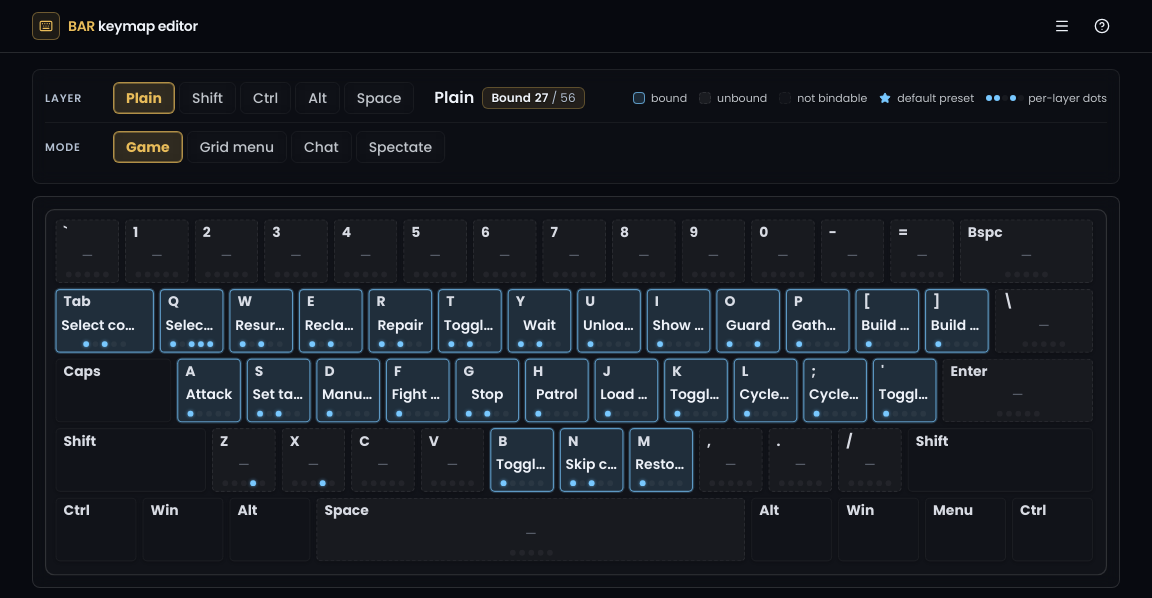
Test case: App smoke › clicks Q, then picks attack from the palette → binding visible
The image size is (1152, 598).
Click the button with aria-label "Q," at (192, 321), box [160, 289, 224, 353]
(page scrolled)
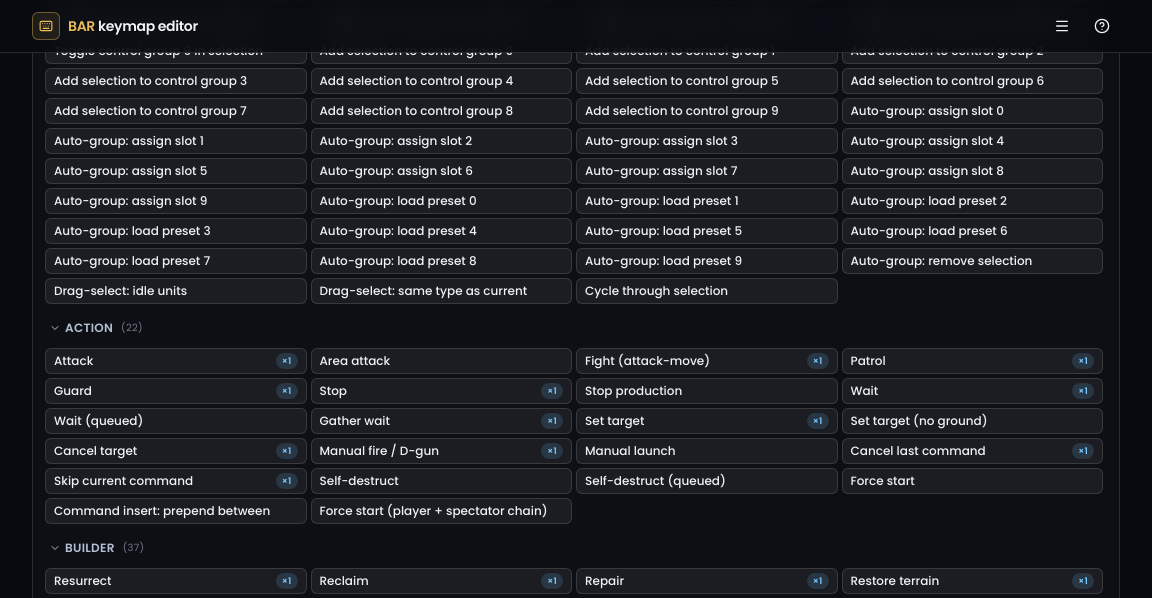
// Find the Attack command pill by full name.
Click the button "Attack ×1" at (74, 360), box [45, 348, 306, 374]
(page scrolled)
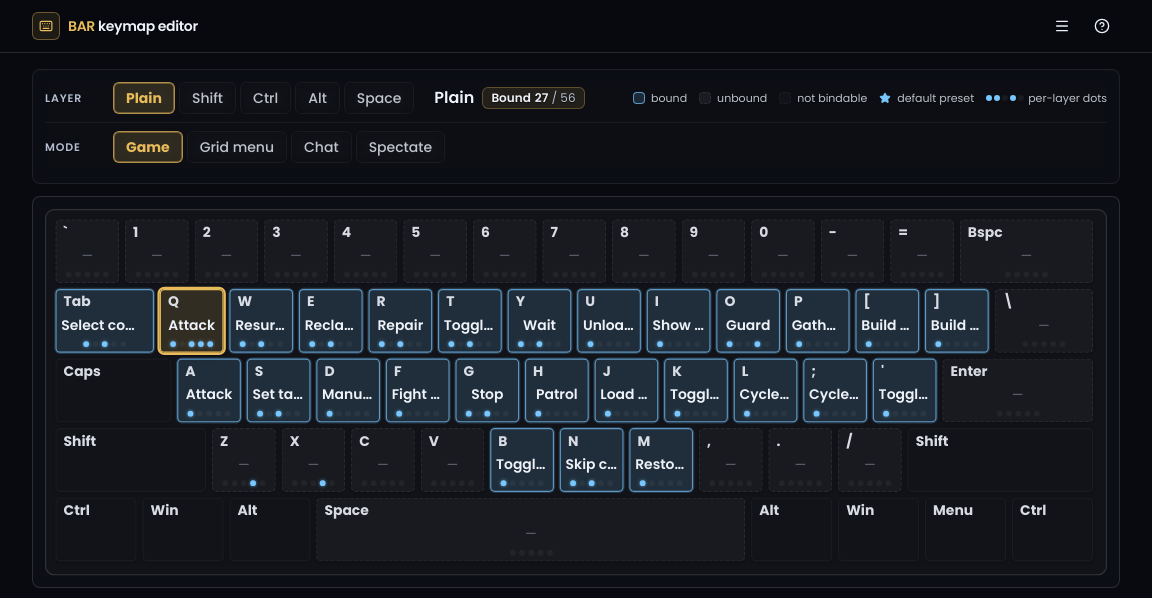
Now the 1st text "Attack" is shown, box [168, 316, 215, 334]
